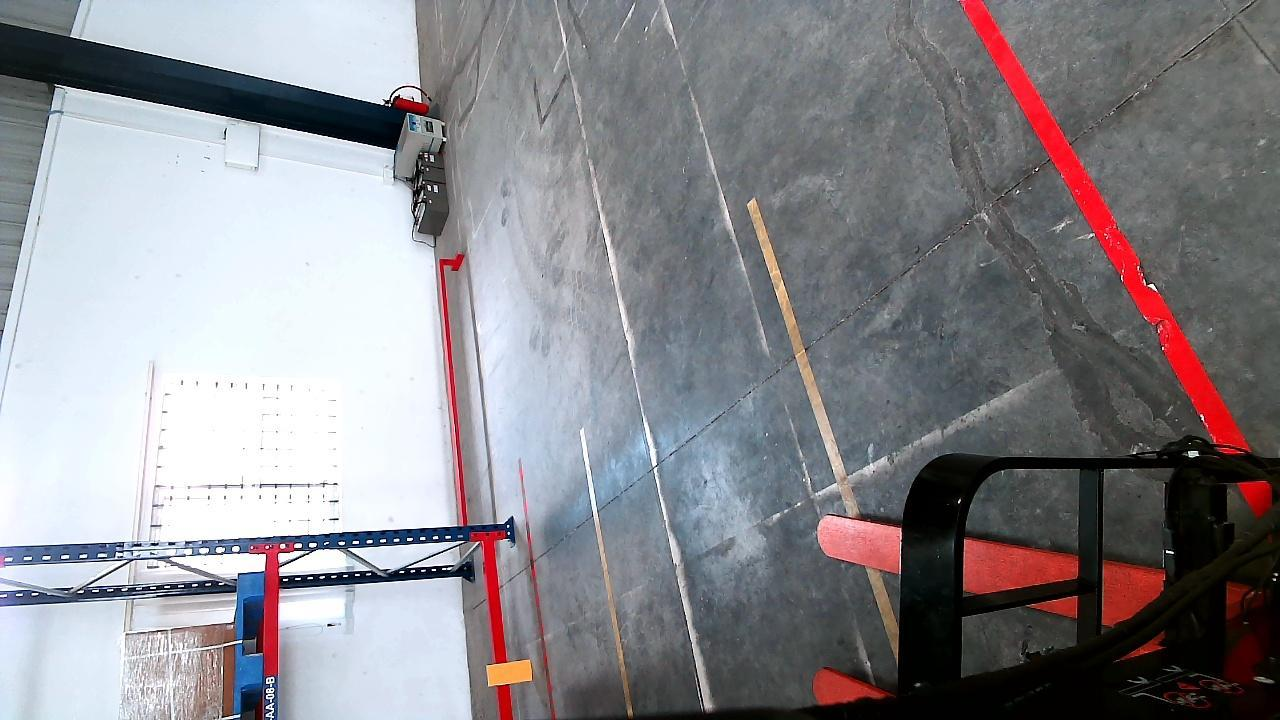red_line: (960, 0, 1241, 449)
yellow_line: (744, 194, 861, 514), (575, 421, 639, 720)
